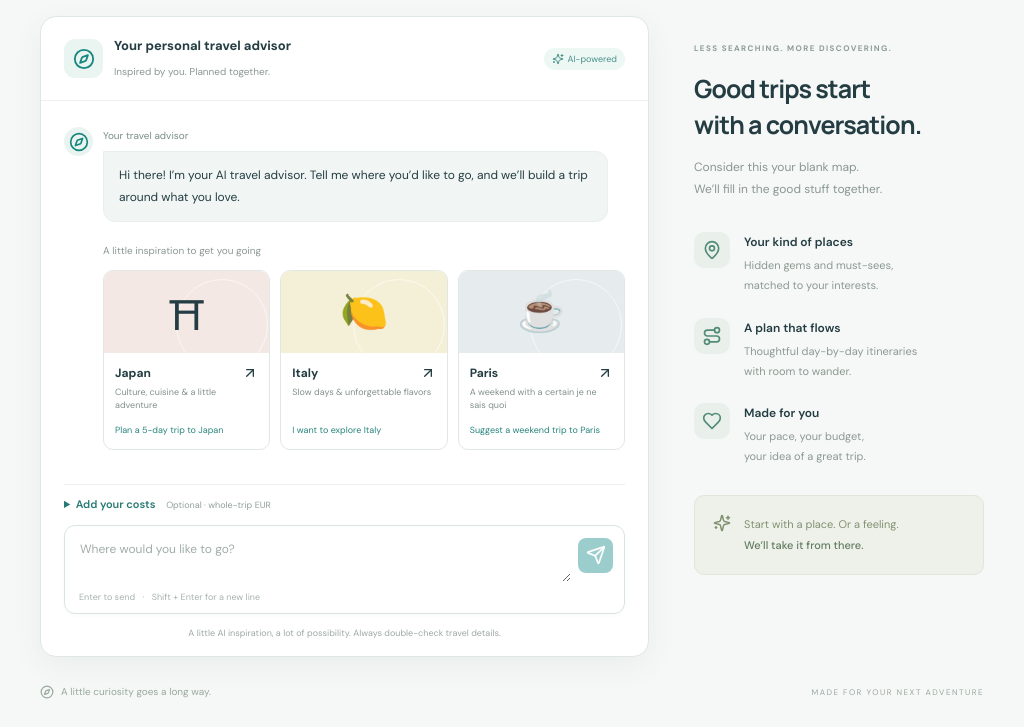
Test case: Travel chat › keeps legacy Markdown responses safe
This screenshot has width=1024, height=727.
(page scrolled)
Click the button "I want to explore Italy": (364, 360) [280,270,448,450]
(page scrolled)
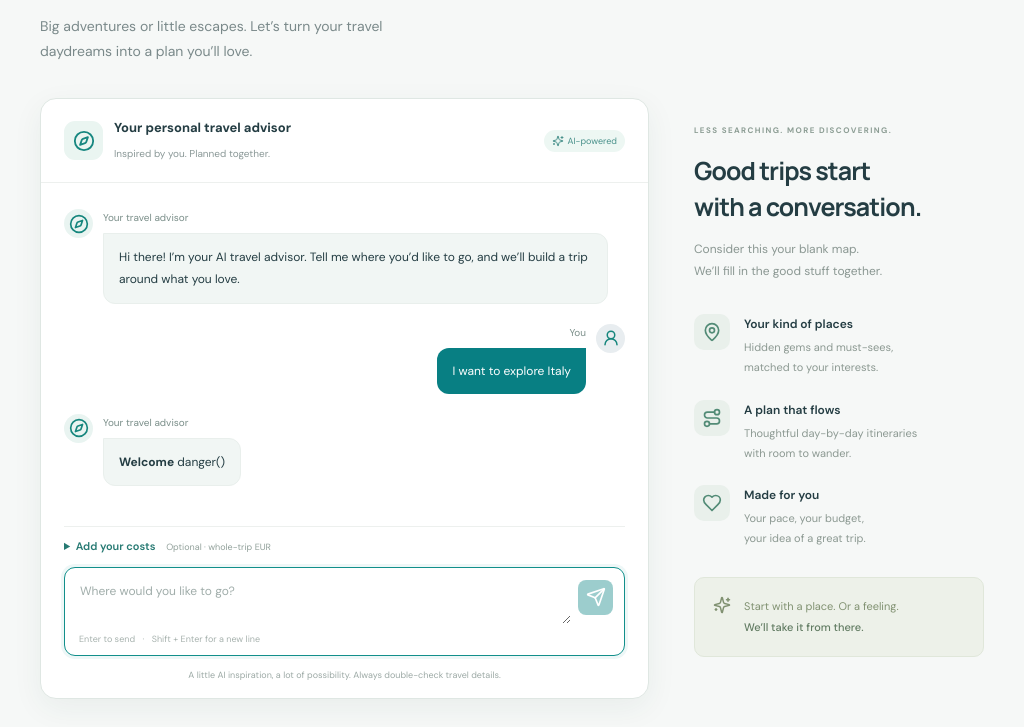
Check: the text "Welcome" is shown, box [119,454,174,470]
